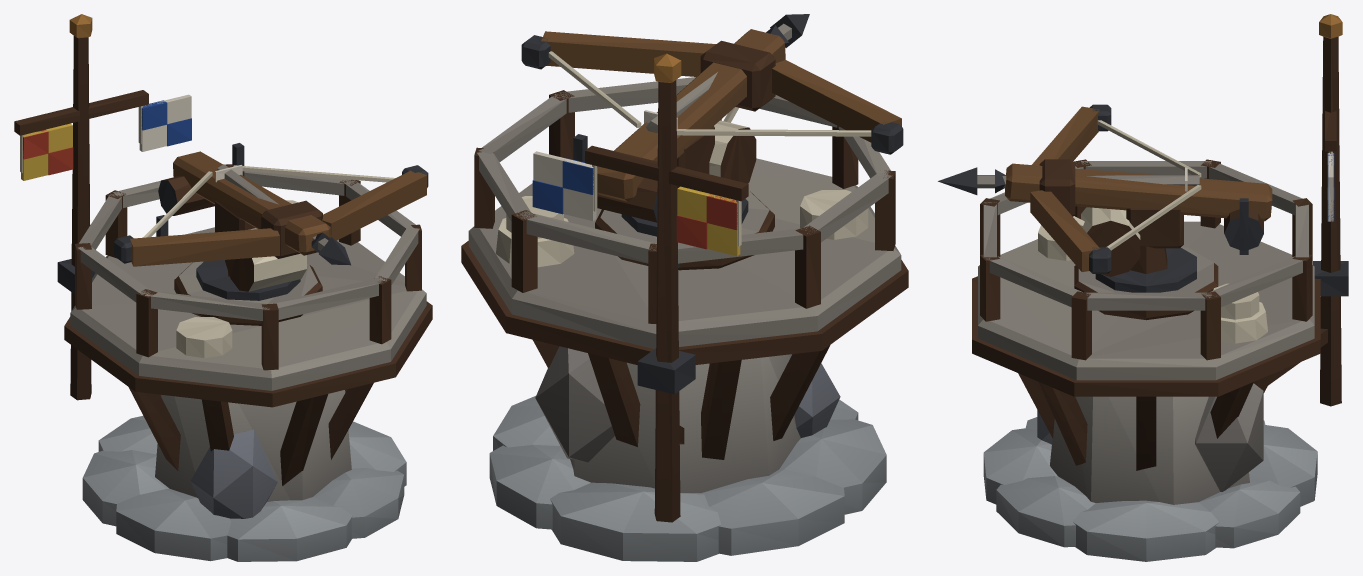
File: pinning_ballista.glb
3 renders of one model, left to right at view 1: azimuth 30°, elevation 25°; view 2: azimuth 150°, elevation 25°; view 3: azimuth 270°, elevation 25°, orthographic. The views are drawn at different scales.
Parts seen in each view (by area): view 1: pinning_ballista; view 2: pinning_ballista; view 3: pinning_ballista.
Part boxes in pixels (x1,y1,x2,y2): pinning_ballista: (14,14,432,561); pinning_ballista: (461,14,908,561); pinning_ballista: (938,14,1348,561).
Size of the model in its own units: 0.809 by 1.12 by 0.925.
